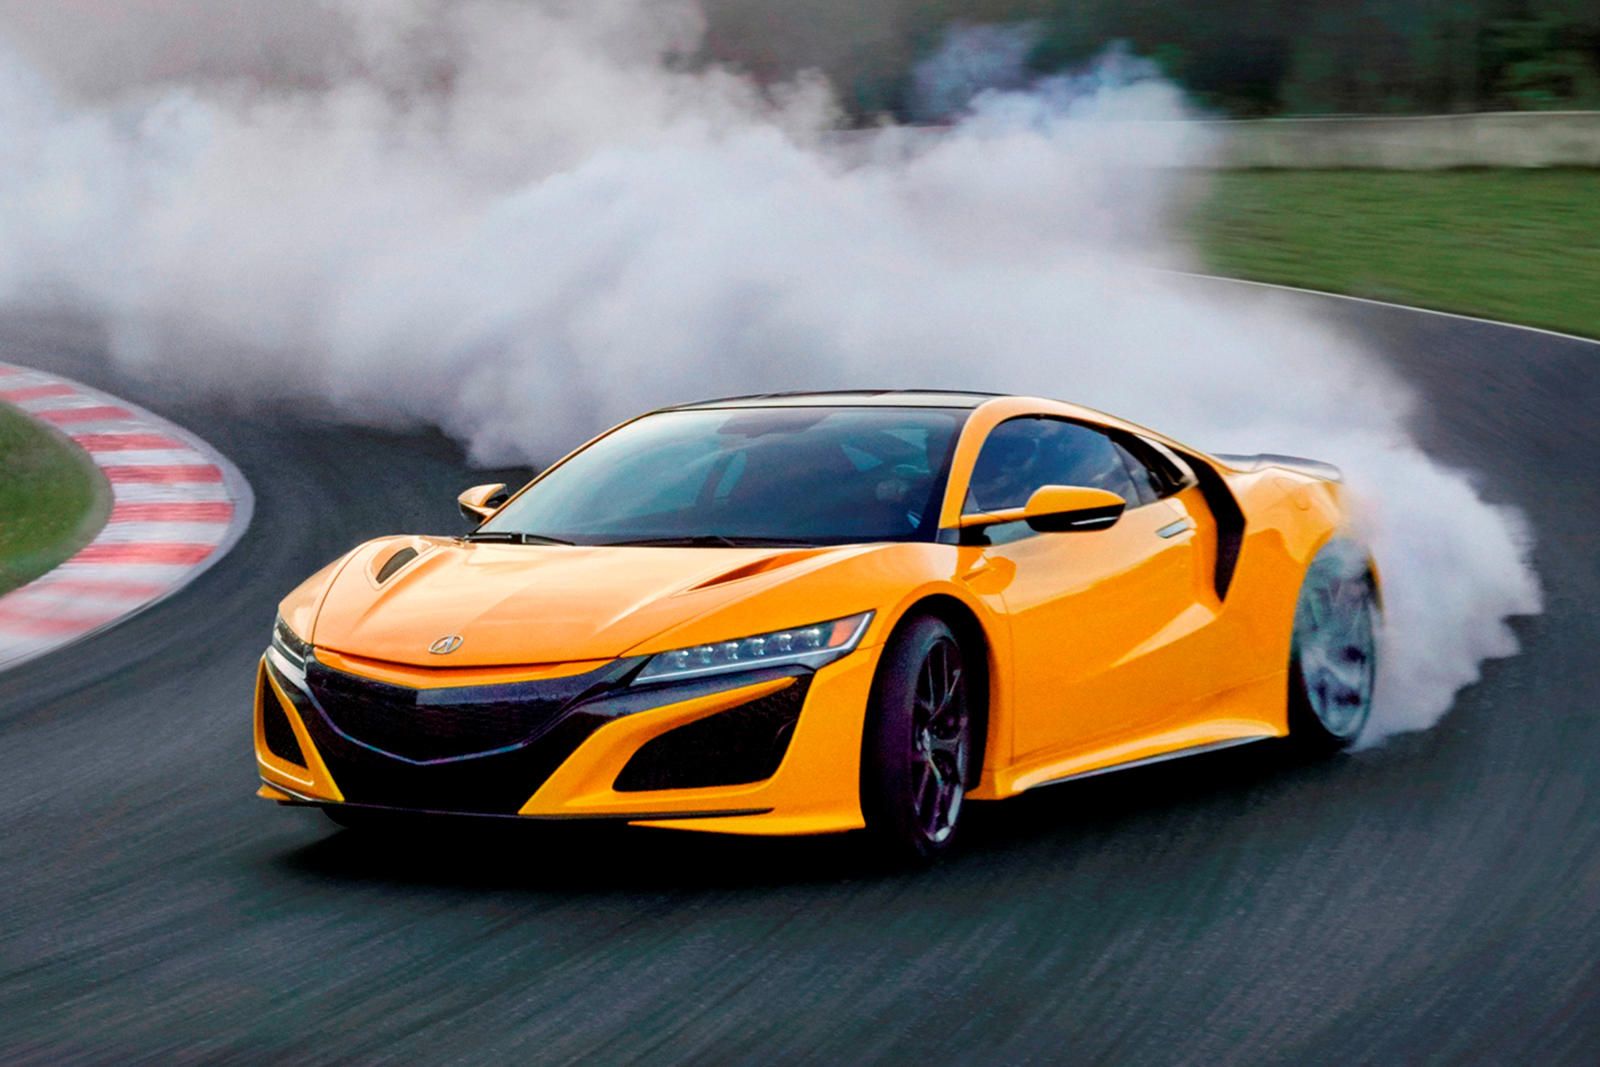headlight: (611, 614, 846, 686), (260, 611, 326, 669)
wheel: (865, 592, 985, 866), (1285, 524, 1381, 765)
